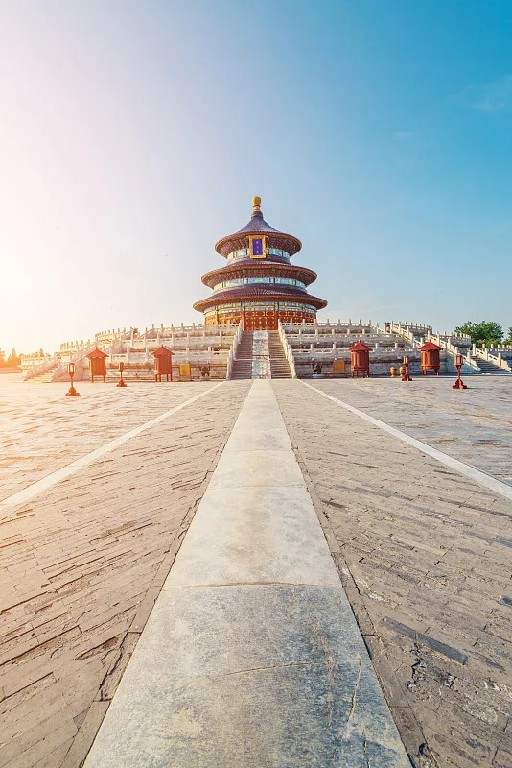Heaven: (192, 194, 329, 327)
